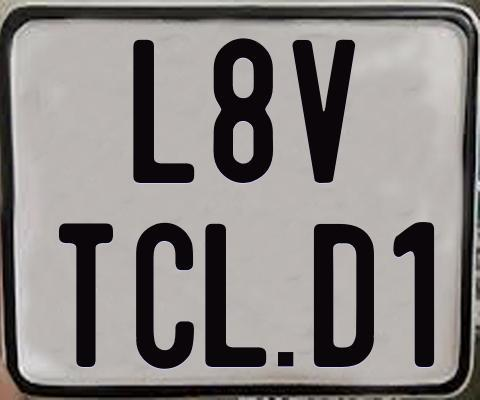1: (393, 221, 435, 368)
8: (210, 36, 276, 182)
C: (135, 220, 197, 367)
D: (311, 223, 375, 366)
L: (203, 223, 268, 371), (132, 38, 197, 183)
T: (57, 222, 117, 367)
V: (291, 37, 359, 181)
